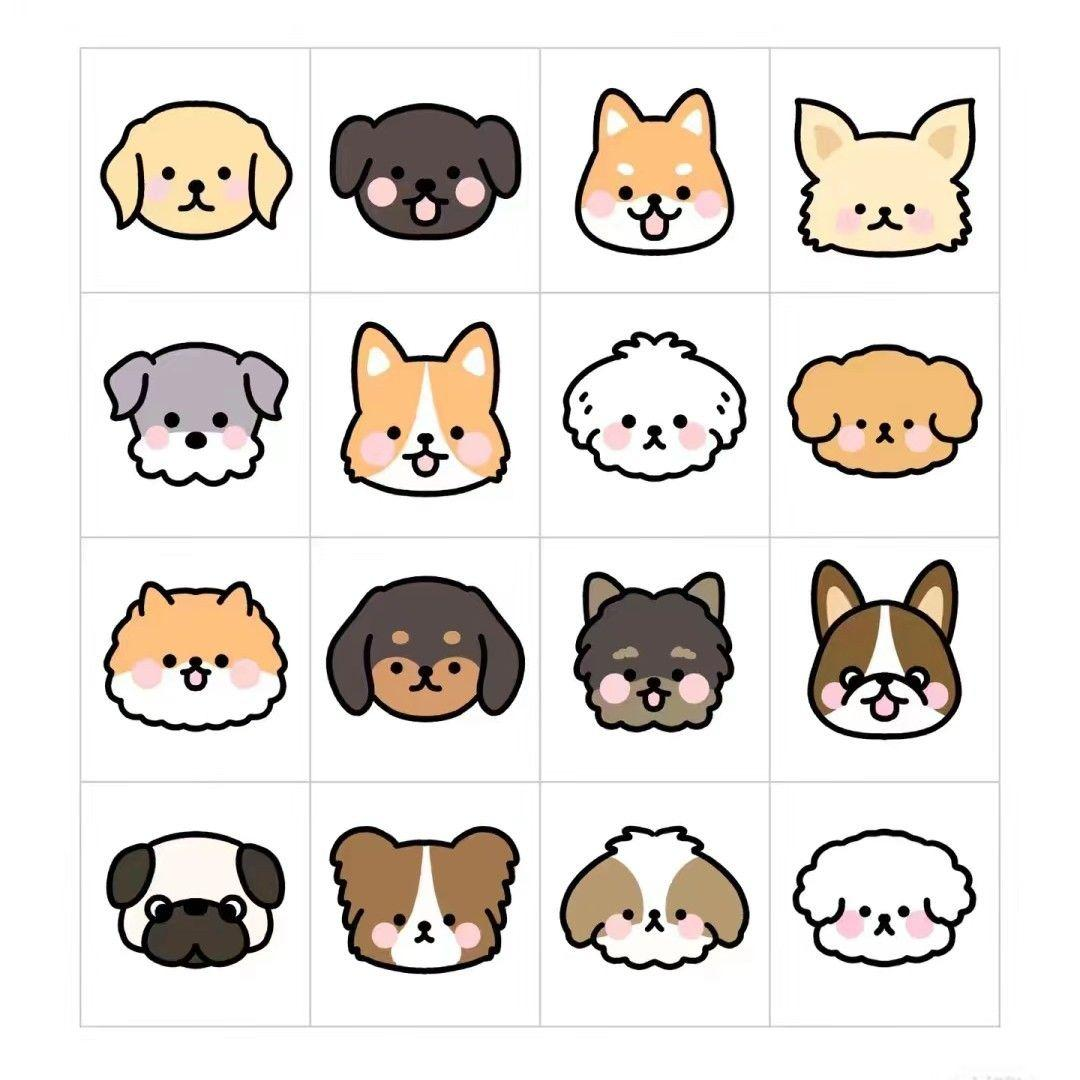non-dog: (332, 311, 517, 504), (321, 566, 531, 729), (785, 92, 982, 263), (801, 552, 969, 747), (323, 818, 525, 980), (553, 818, 757, 977), (565, 79, 739, 263), (98, 574, 293, 737), (555, 326, 748, 490), (786, 821, 983, 975), (785, 335, 987, 485), (568, 565, 740, 741), (96, 95, 297, 244), (99, 340, 294, 493), (97, 825, 292, 975), (328, 102, 524, 247)
